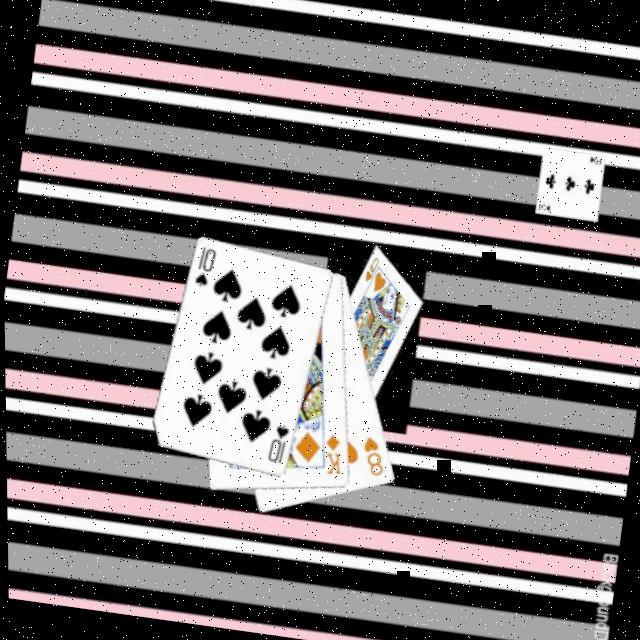10S: (191, 241, 222, 290), (264, 418, 294, 467)
8H: (356, 430, 393, 480)
KD: (319, 428, 350, 478)
